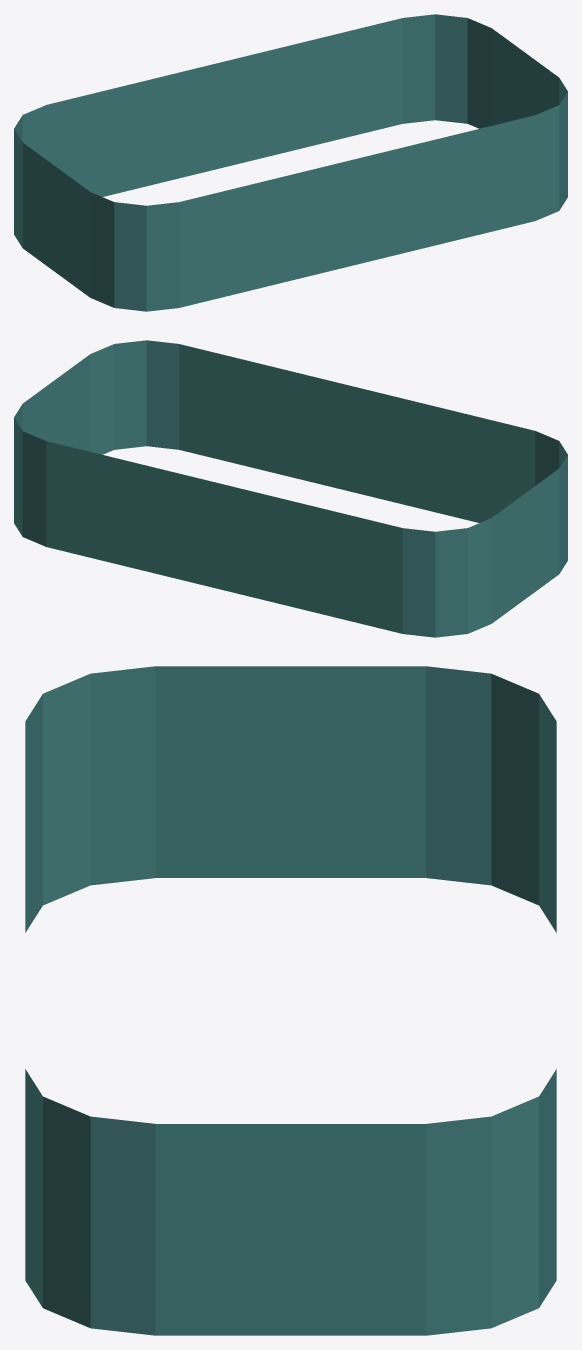
File: arenaFlippedNormals.fbx
3 views of the same model, one above another, from view 1: azimuth 30°, elevation 25°; view 2: azimuth 150°, elevation 25°; view 3: azimuth 270°, elevation 25° (orthographic). The views are drawn at different scales.
Visible parts, largest first — view 1: Cube; view 2: Cube; view 3: Cube.
Boxes of the visible parts, left/top/right/bottom form: Cube: left=14, top=14, right=567, bottom=311; Cube: left=14, top=340, right=567, bottom=637; Cube: left=25, top=666, right=556, bottom=1335.
Size of the model in its own units: 889 by 192 by 436.
